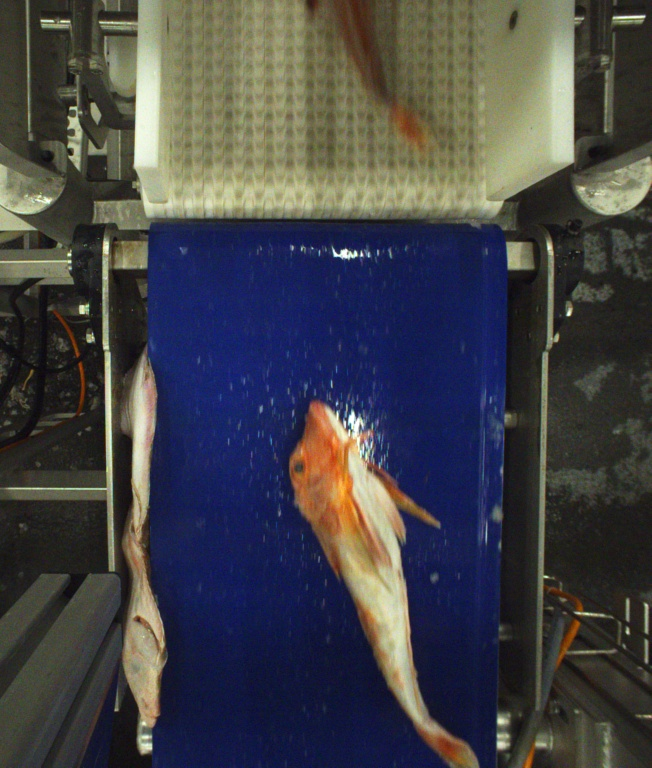GUU: (289, 401, 484, 768)
